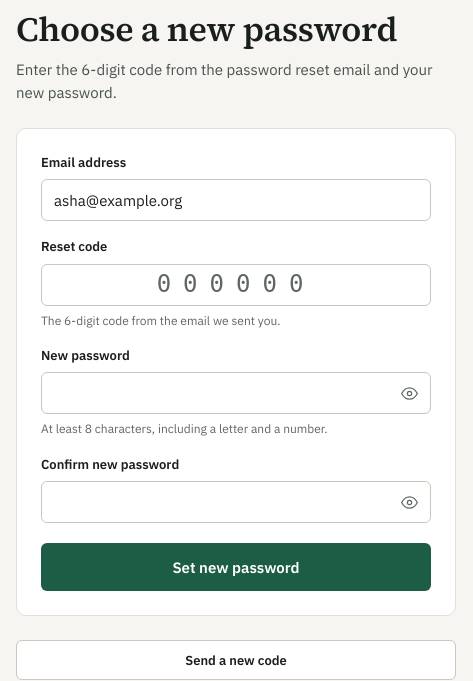
Reset password page (code) › requires the full code
In the password field labelled "New password": (236, 393) [41,372,431,414], type "NewPass123"
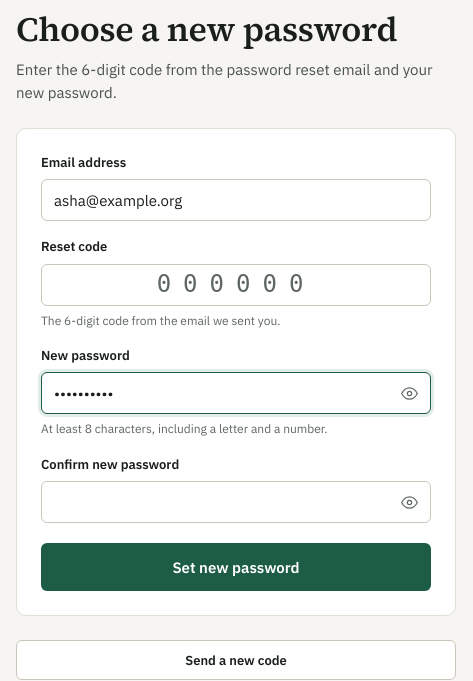
In the password field labelled "Confirm new password": (236, 502) [41,481,431,523], type "NewPass123"
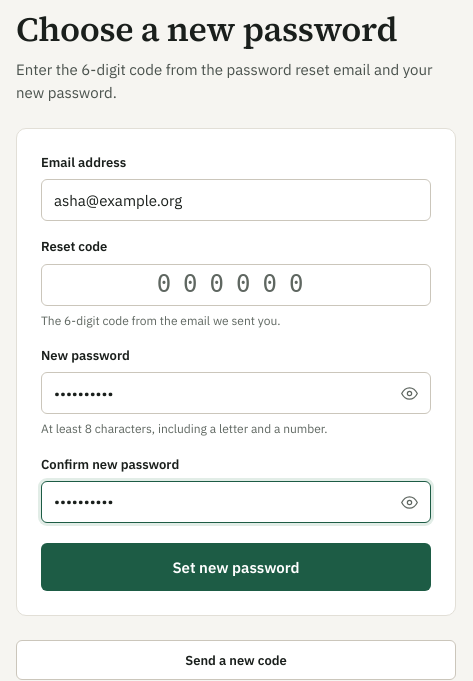
Click the button "Set new password": (236, 567) [41,543,431,591]
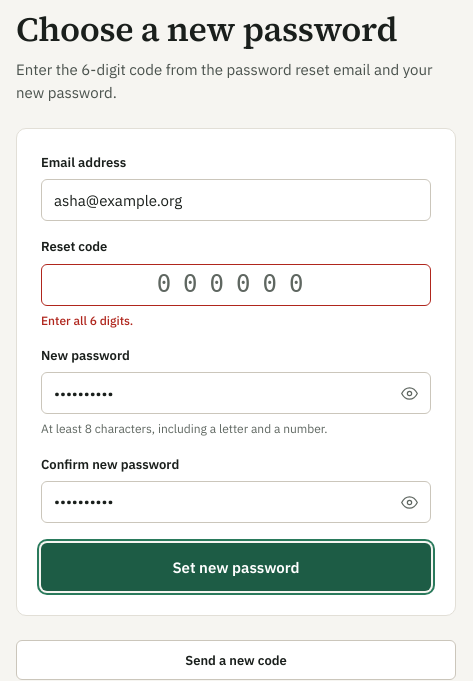
Check: the text "Enter all 6 digits." is shown, box [41,313,133,328]
